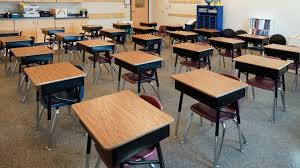desk: (70, 90, 169, 167), (170, 66, 246, 166), (231, 51, 290, 123), (21, 63, 82, 100), (110, 50, 162, 92), (75, 38, 113, 74), (171, 41, 212, 68), (7, 44, 56, 64), (208, 33, 244, 54), (51, 31, 81, 55), (130, 33, 163, 52), (97, 27, 127, 46), (168, 28, 198, 42)
